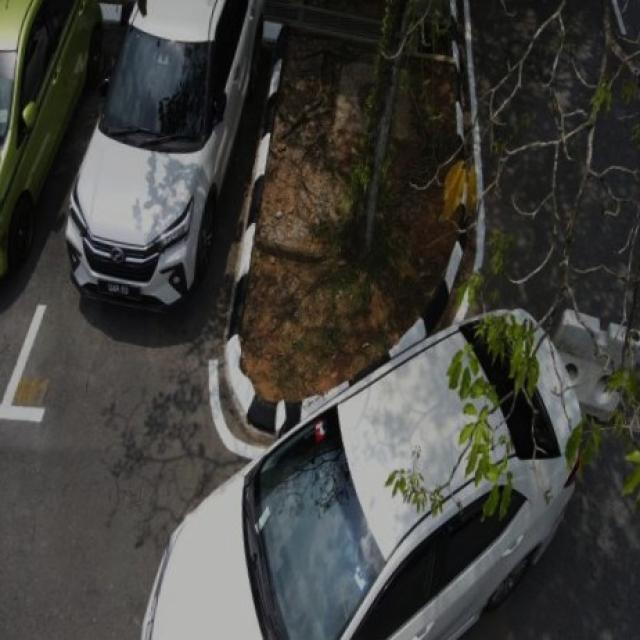Legalparking: (65, 0, 265, 308), (0, 0, 101, 278)
illegalparking: (143, 310, 582, 639)
